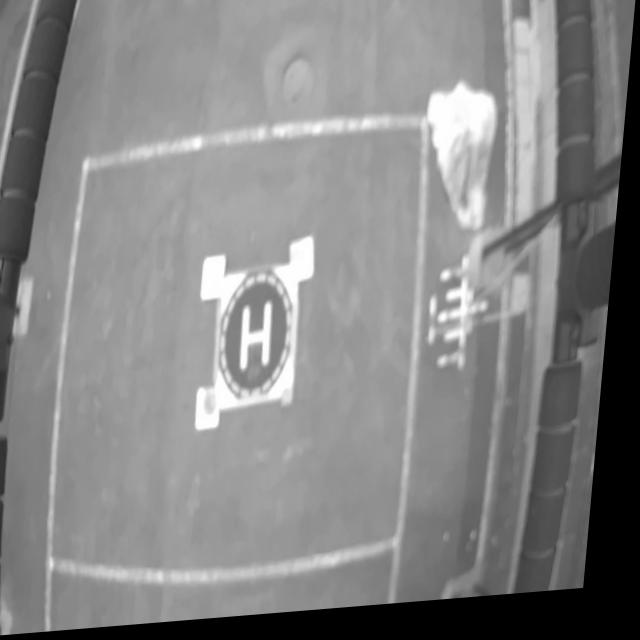Helipad: (246, 306, 280, 378)
